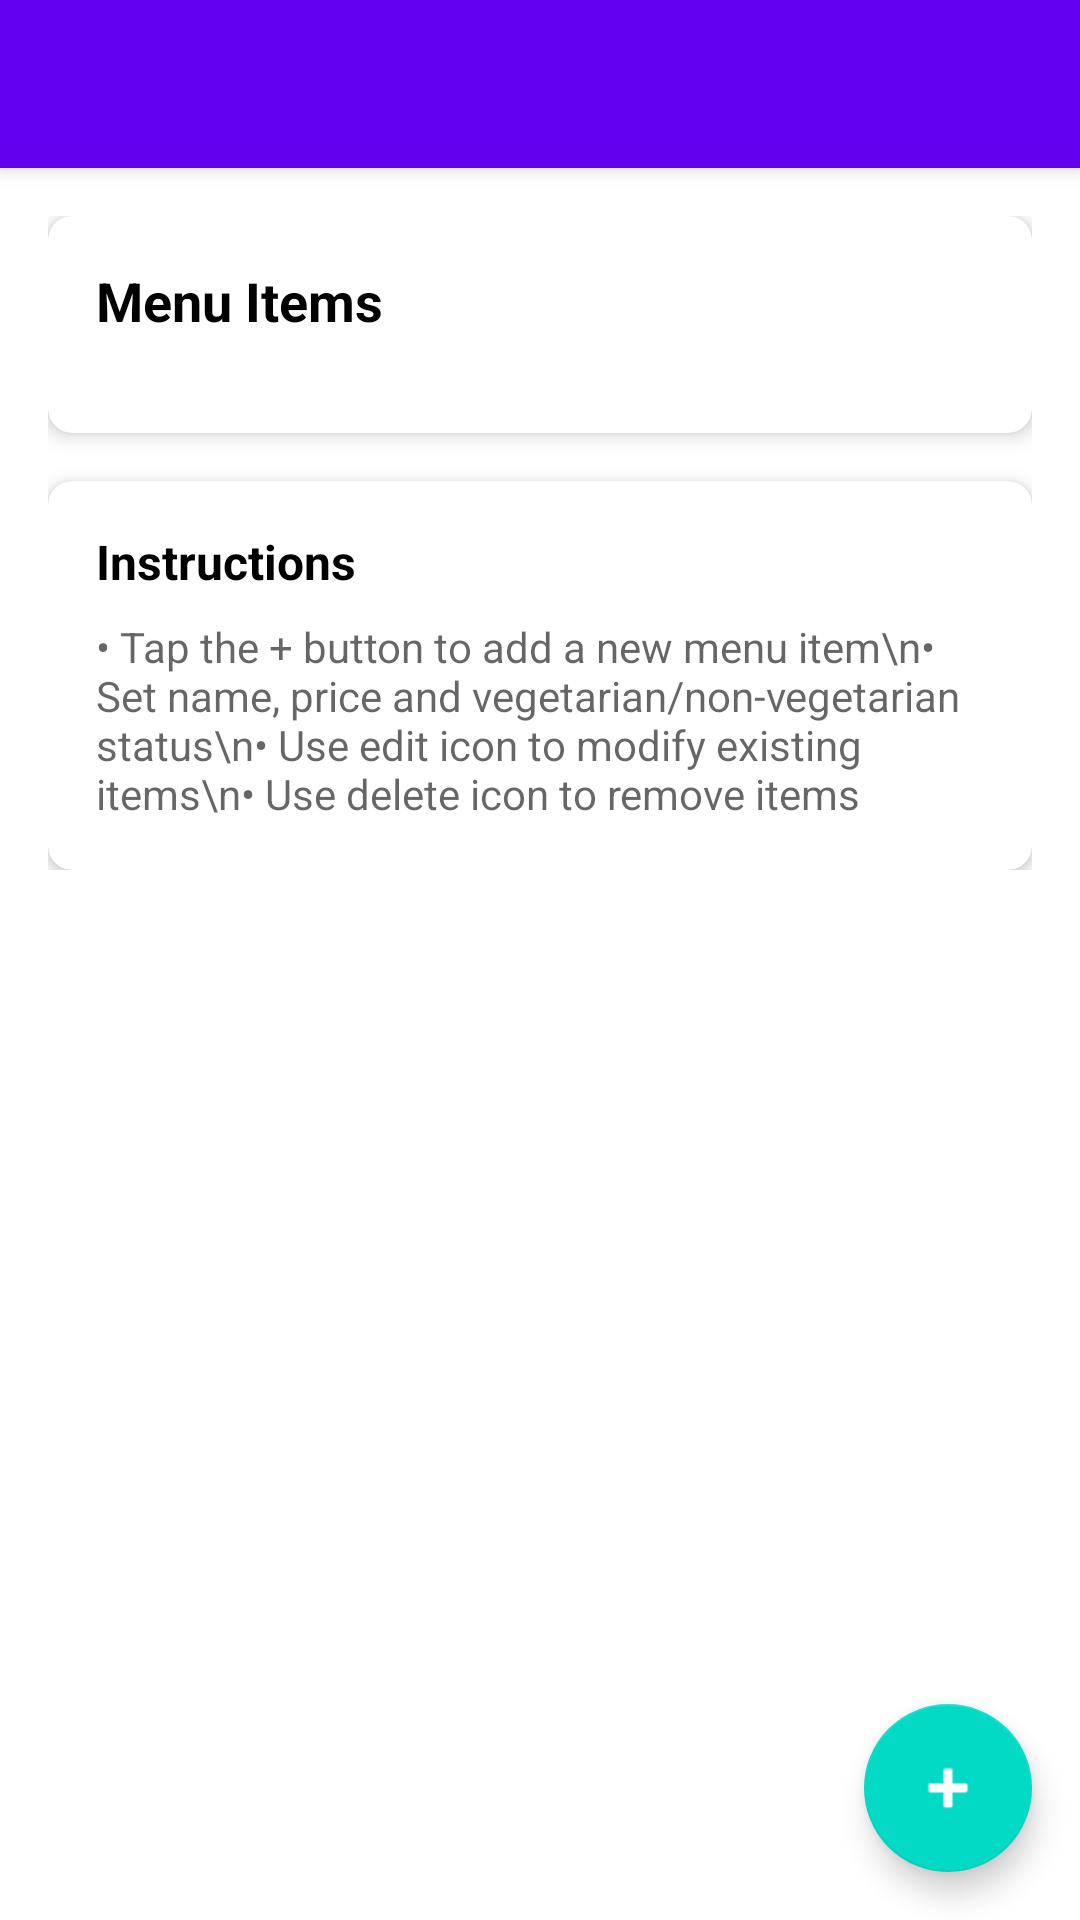

Where to tap for icons on this 1080 x 1920 app screen, as point (x, y):
Add Menu Item: point (948, 1788)
